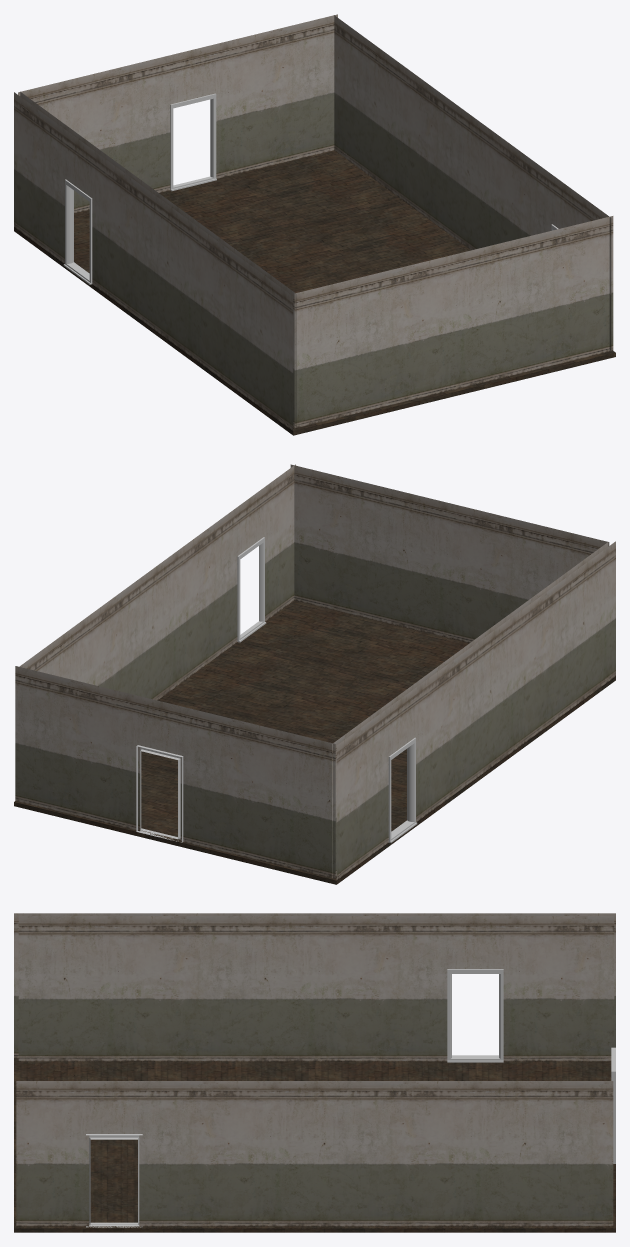
The model's file is room_15m_x_10m_door_left_back.fbx.
3 renders of one model, top to bottom at view 1: azimuth 30°, elevation 25°; view 2: azimuth 150°, elevation 25°; view 3: azimuth 270°, elevation 25°, orthographic. The views are drawn at different scales.
Parts seen in each view (by area): view 1: room_15m_x_10m_door_left_back; view 2: room_15m_x_10m_door_left_back; view 3: room_15m_x_10m_door_left_back.
Part boxes in pixels (box(x1,y1,x2,y2)): room_15m_x_10m_door_left_back: box(14, 14, 615, 435); room_15m_x_10m_door_left_back: box(14, 464, 615, 884); room_15m_x_10m_door_left_back: box(14, 913, 615, 1232).
Bounding box in the file's own units: 1008 × 412 × 1500.
